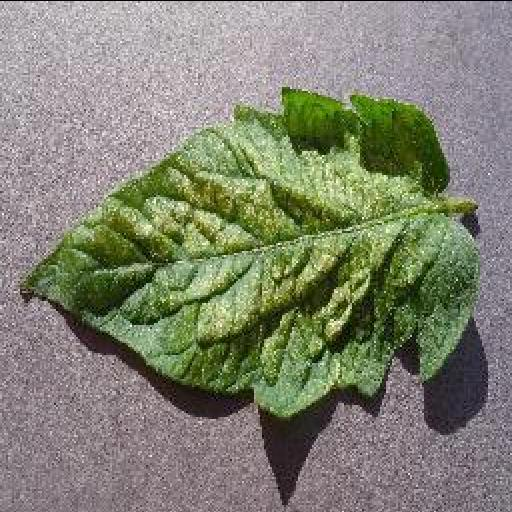disease_tomato: (16, 86, 480, 412)
